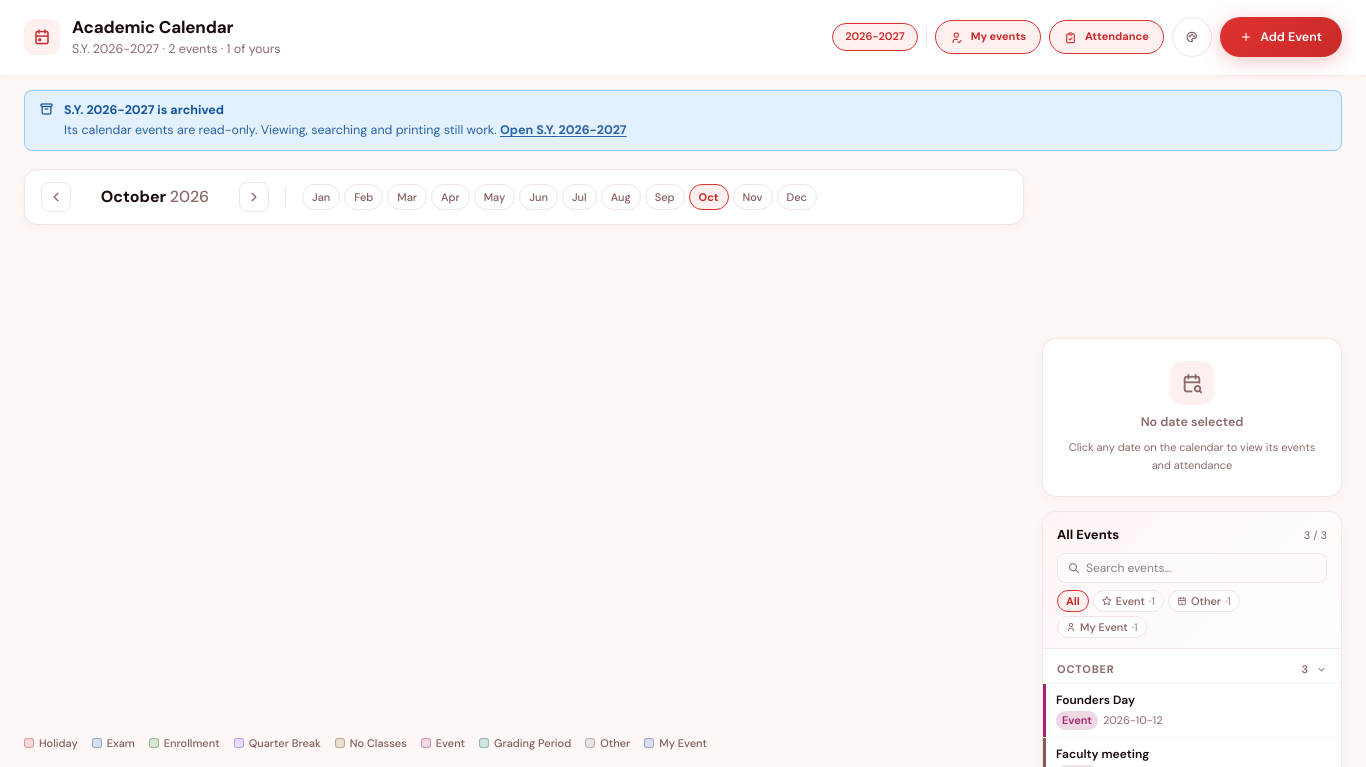
Test: an admin or the registrar › offers only their own calendar in an archived year
Click the button "Add Event" at [1281, 37], box [1220, 17, 1342, 57]
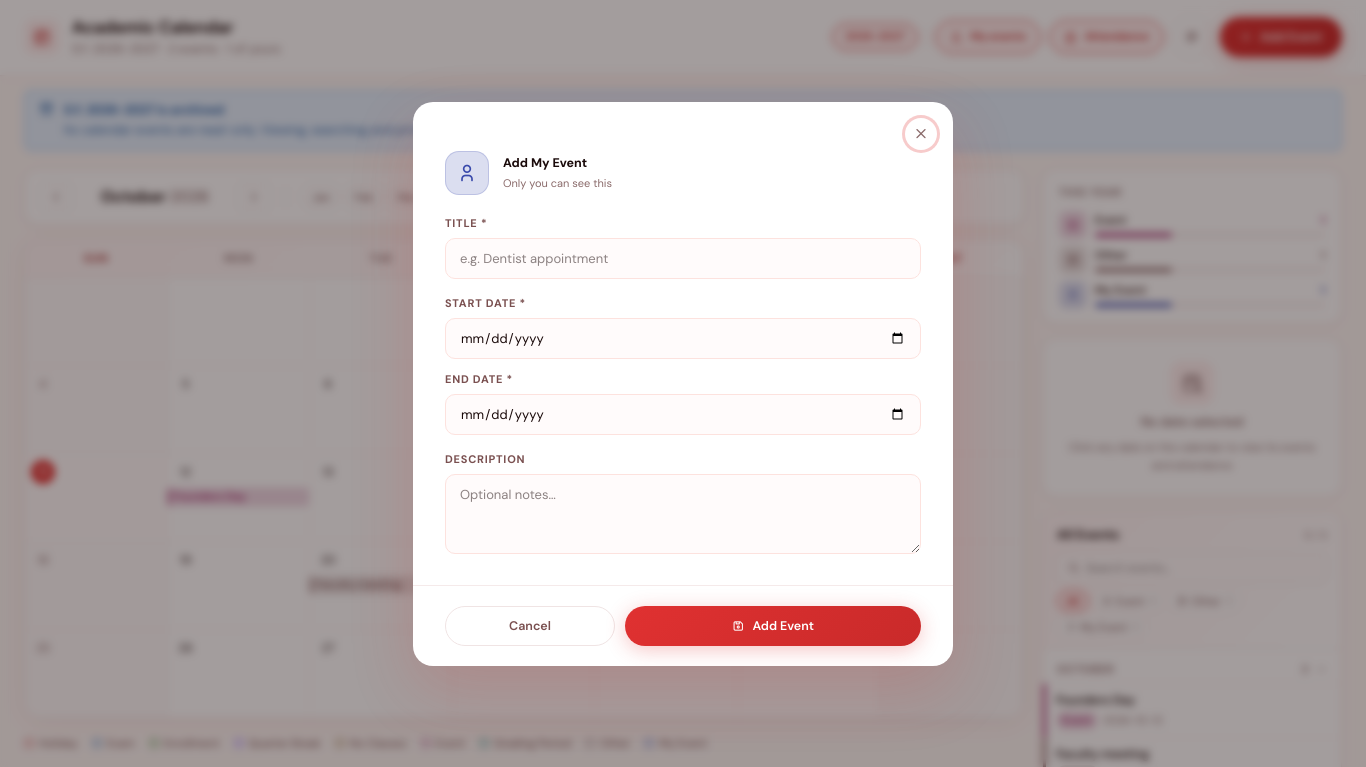
Expected: the heading "Add My Event" is shown, [503, 155, 587, 171]
